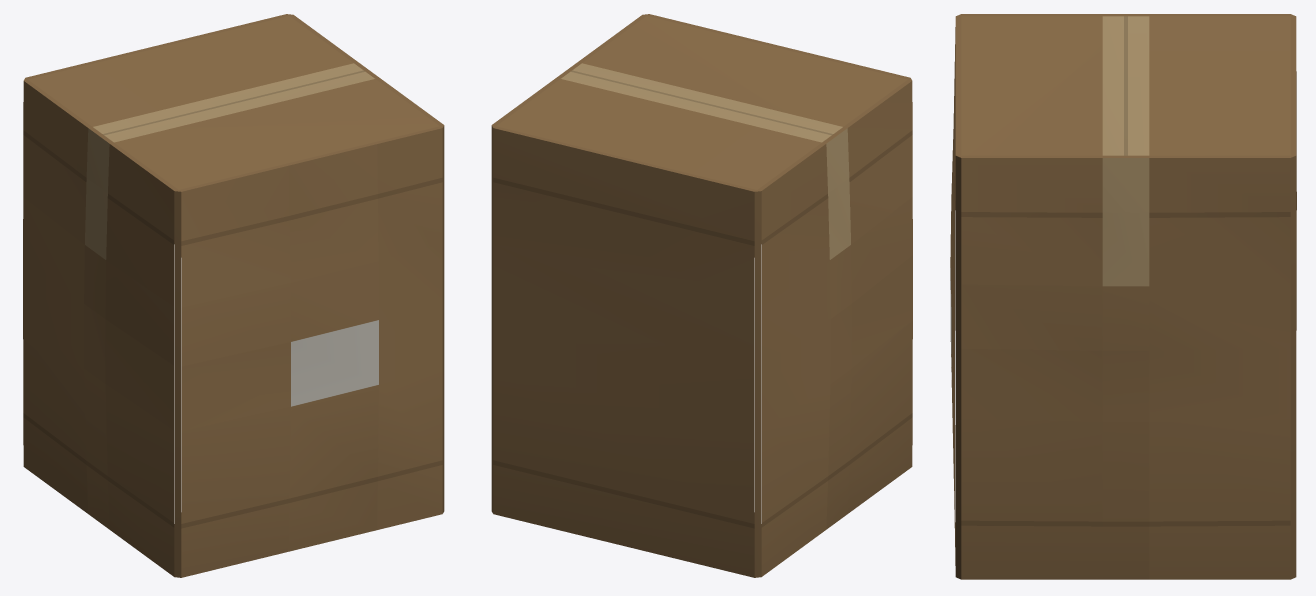
File: box.carton.label.glb
3 views of the same model, side by side, from view 1: azimuth 30°, elevation 25°; view 2: azimuth 150°, elevation 25°; view 3: azimuth 270°, elevation 25° (orthographic). The views are drawn at different scales.
Parts seen in each view (by area): view 1: box_carton_label; view 2: box_carton_label; view 3: box_carton_label.
Part boxes in pixels (<box>): box_carton_label: <box>23,14,444,577</box>; box_carton_label: <box>491,14,912,577</box>; box_carton_label: <box>950,14,1296,579</box>.
Size of what is drawn, in the model's own units: 0.378 by 0.5 by 0.378.
